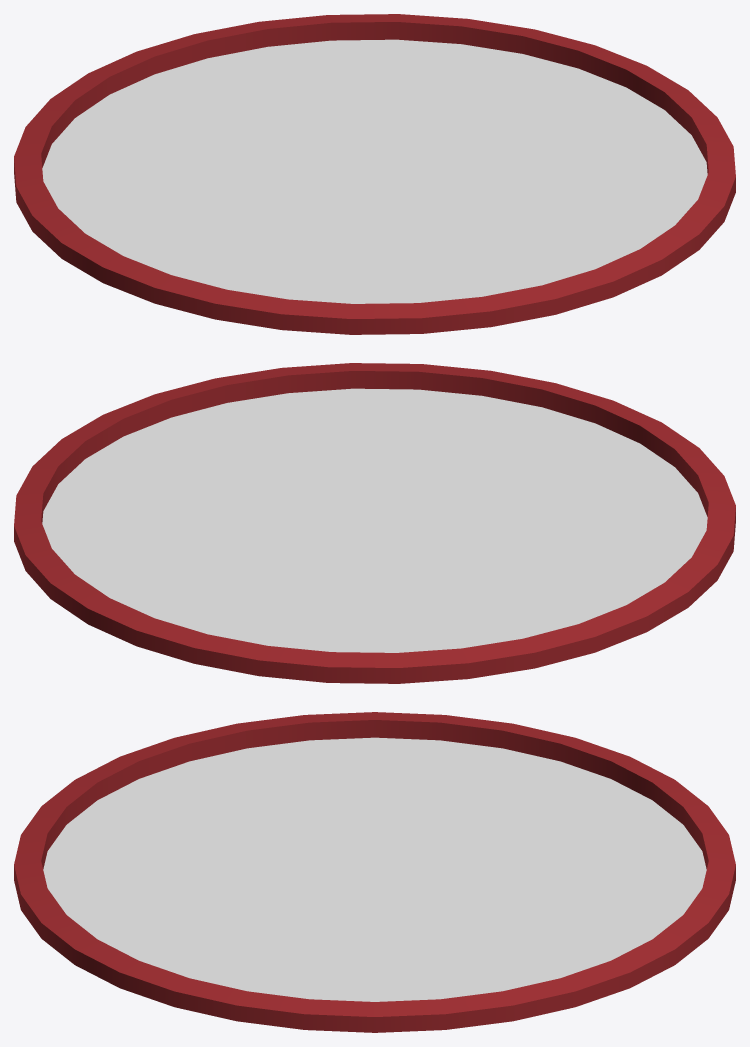
Rendered from SunPlatform.fbx.
3 views of the same model, one above another, from view 1: azimuth 30°, elevation 25°; view 2: azimuth 150°, elevation 25°; view 3: azimuth 270°, elevation 25° (orthographic).
Parts seen in each view (by area): view 1: Circle; view 2: Circle; view 3: Circle.
Part boxes in pixels (bbox=[...]): Circle: bbox=[14, 14, 735, 334]; Circle: bbox=[14, 363, 735, 683]; Circle: bbox=[14, 712, 735, 1032].
Bounding box in the file's own units: 216 × 7.63 × 216.
